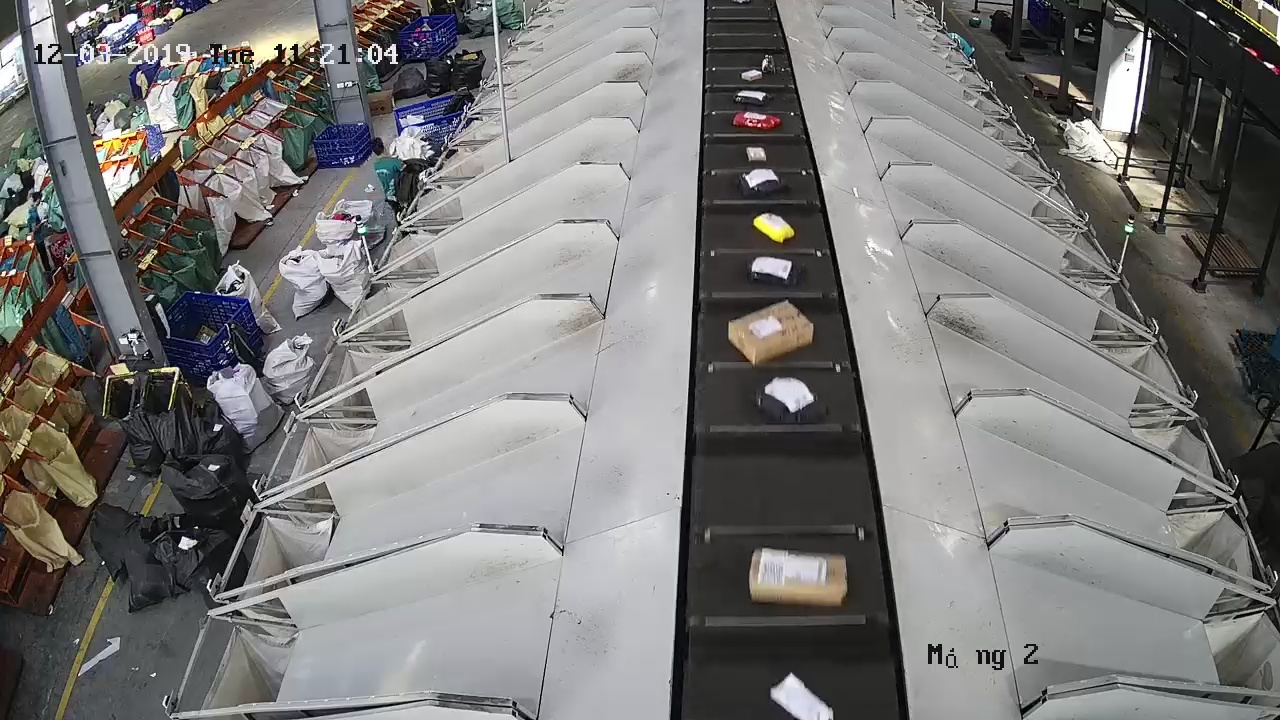parcel: (747, 545, 849, 610), (726, 298, 815, 368), (750, 375, 830, 425), (745, 254, 806, 288), (751, 211, 796, 245), (737, 167, 782, 200), (745, 146, 767, 163)
